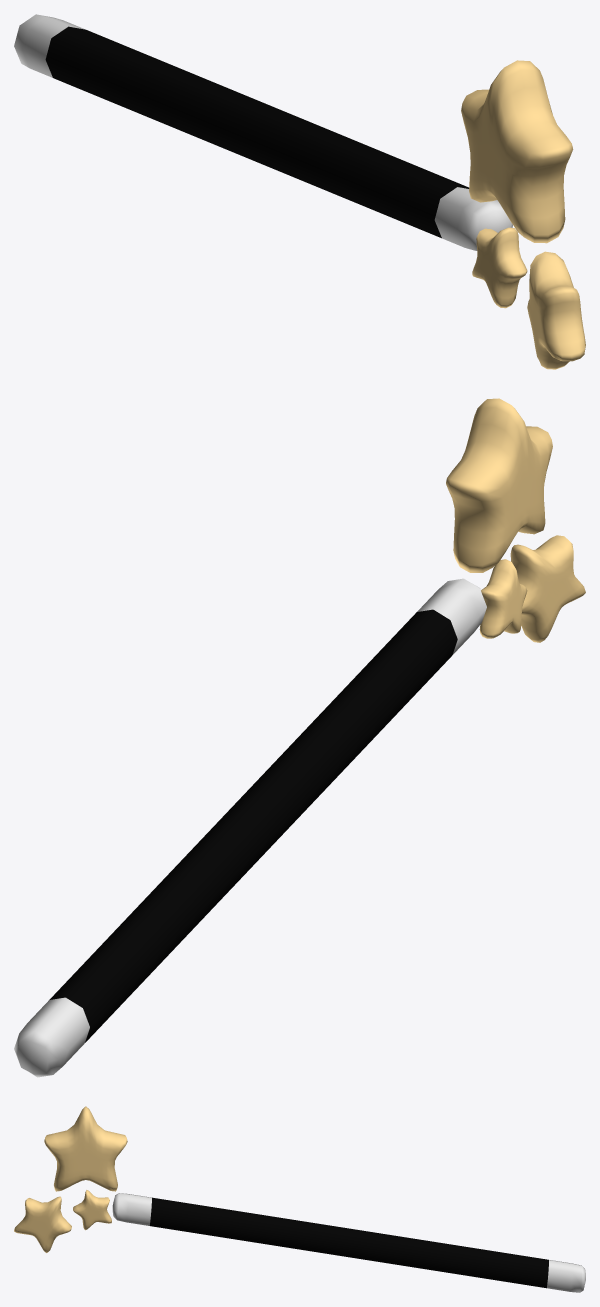
The model's file is baguette magique.fbx.
3 renders of one model, top to bottom at view 1: azimuth 30°, elevation 25°; view 2: azimuth 150°, elevation 25°; view 3: azimuth 270°, elevation 25°, orthographic. The views are drawn at different scales.
Visible parts, largest first — view 1: Baguette; view 2: Baguette; view 3: Baguette.
Boxes of the visible parts, bbox=[...] form: Baguette: bbox=[14, 14, 585, 369]; Baguette: bbox=[14, 398, 585, 1077]; Baguette: bbox=[14, 1106, 585, 1292].
Size of the model in its own units: 2.68 by 16.32 by 45.92.
